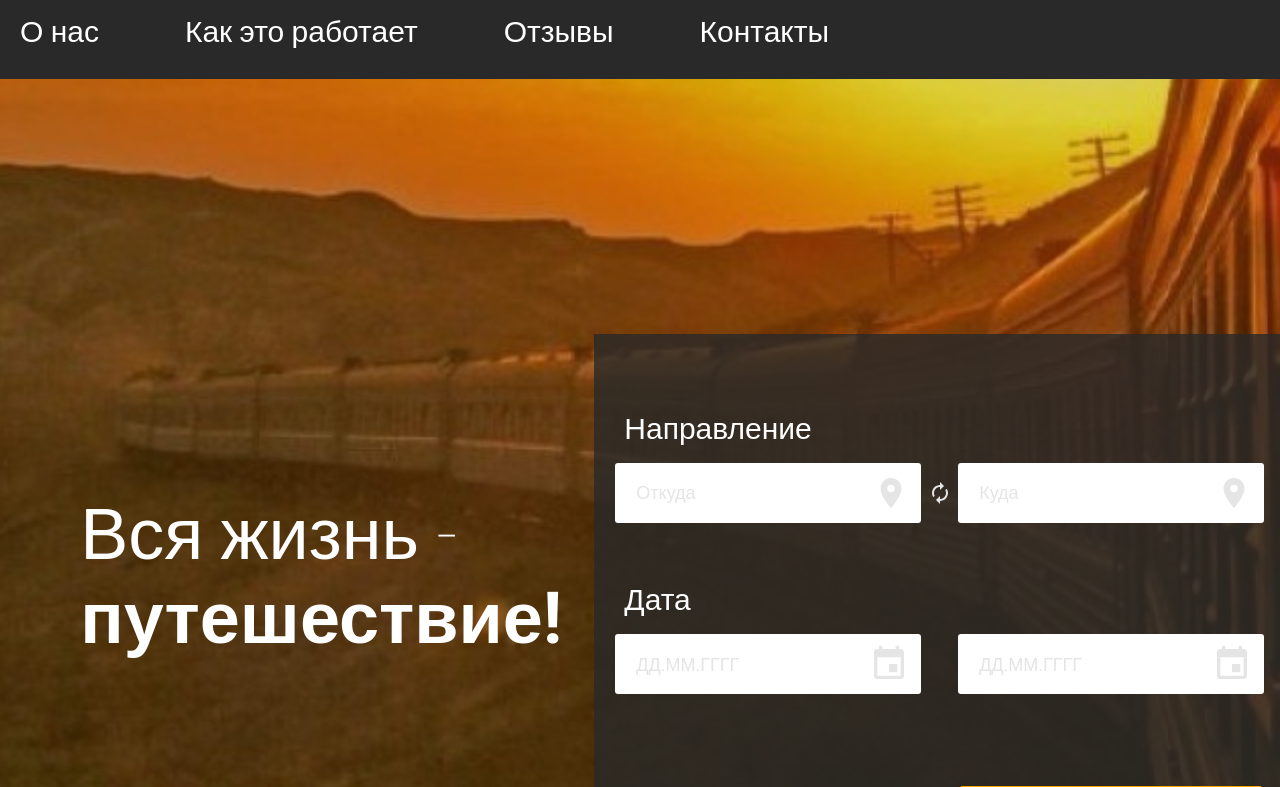
Test: поиск билетов › выбирает города из подсказок, меняет их местами и передаёт в адрес
The image size is (1280, 787).
Type "моск" into the dropdown labelled "Откуда".
click(768, 493); type("моск")  # box [615,463,921,523]
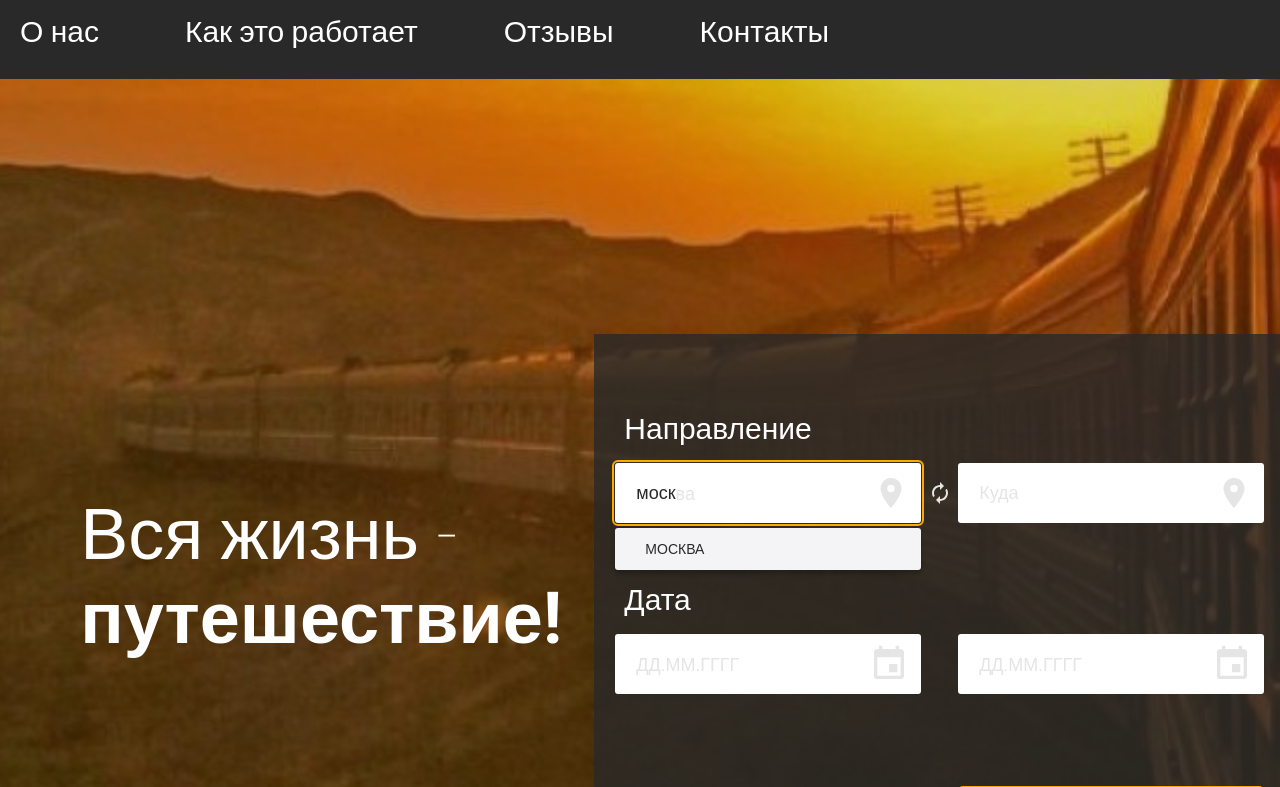
Click the option "Москва".
click(675, 549)  # box [645,541,704,557]
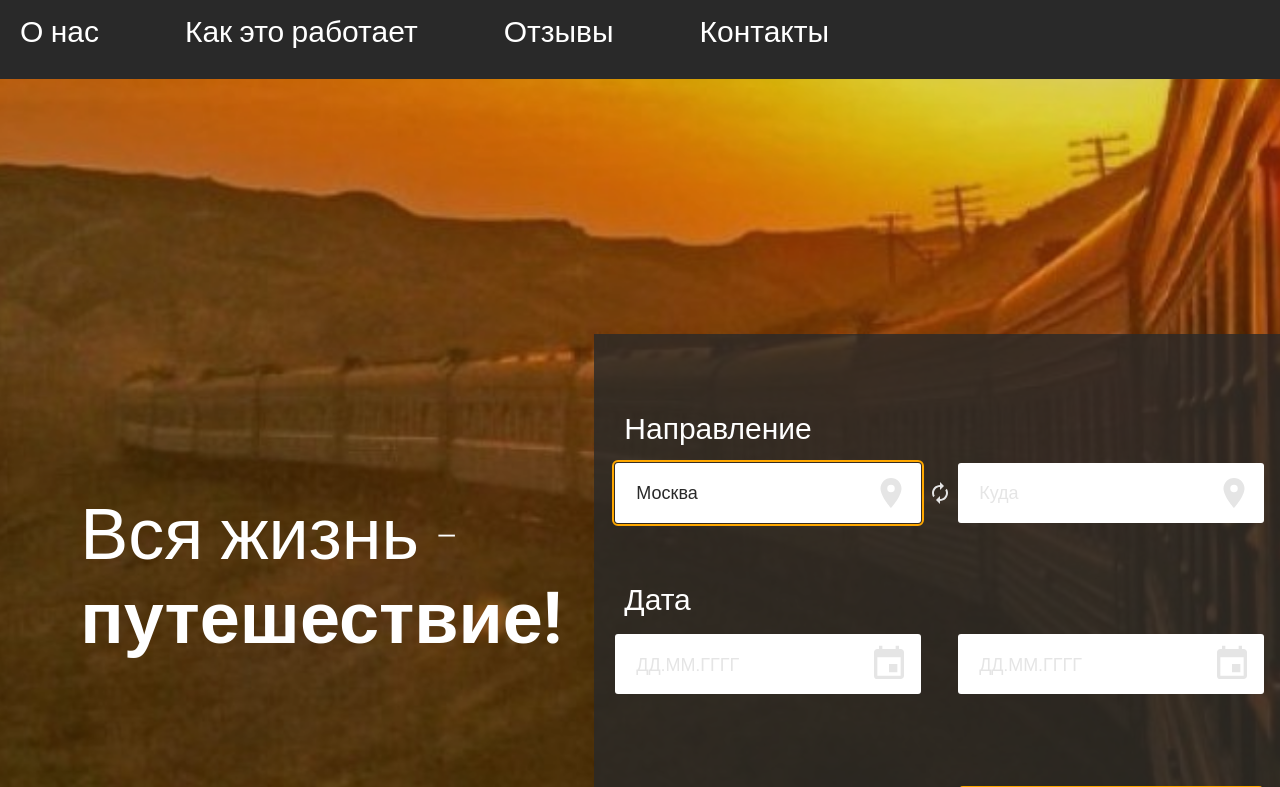
Type "санкт" into the dropdown labelled "Куда".
click(1111, 493); type("санкт")  # box [958,463,1264,523]
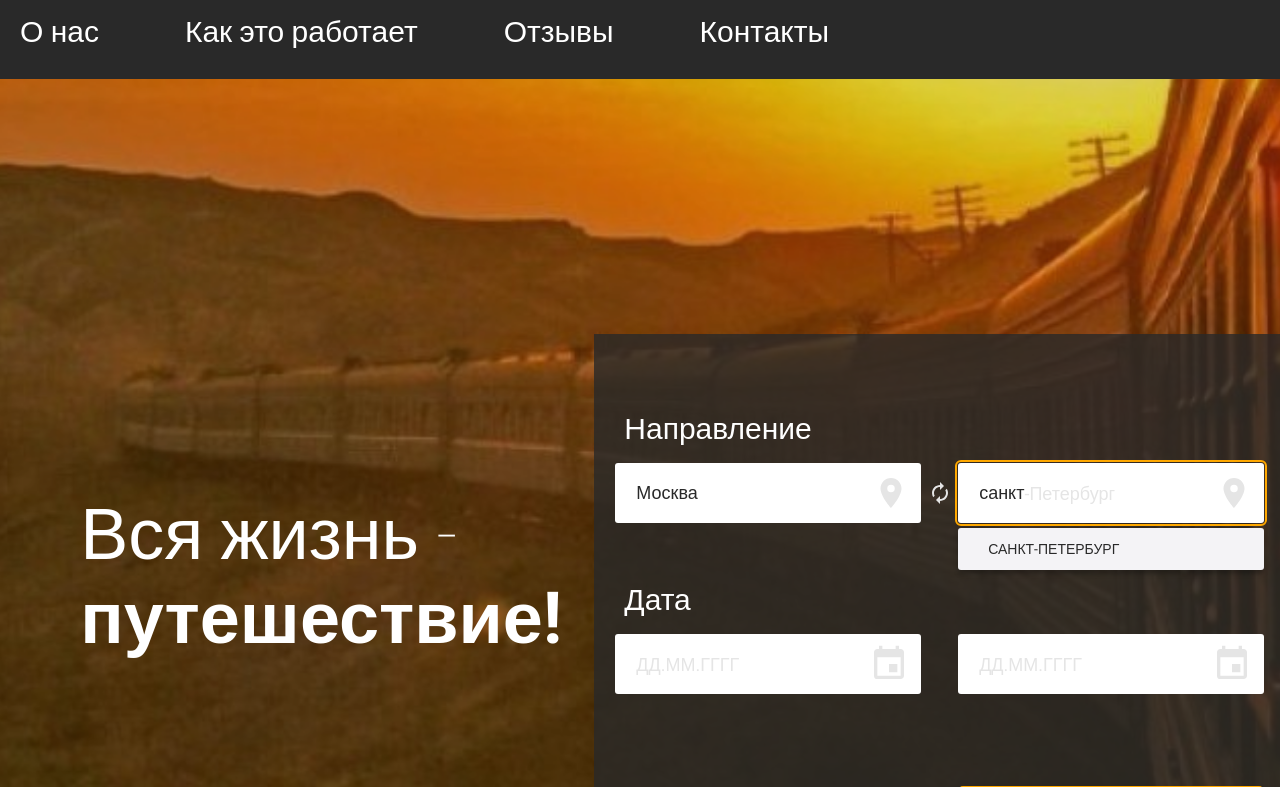
Click the option "Санкт-Петербург".
click(1054, 549)  # box [988,541,1119,557]
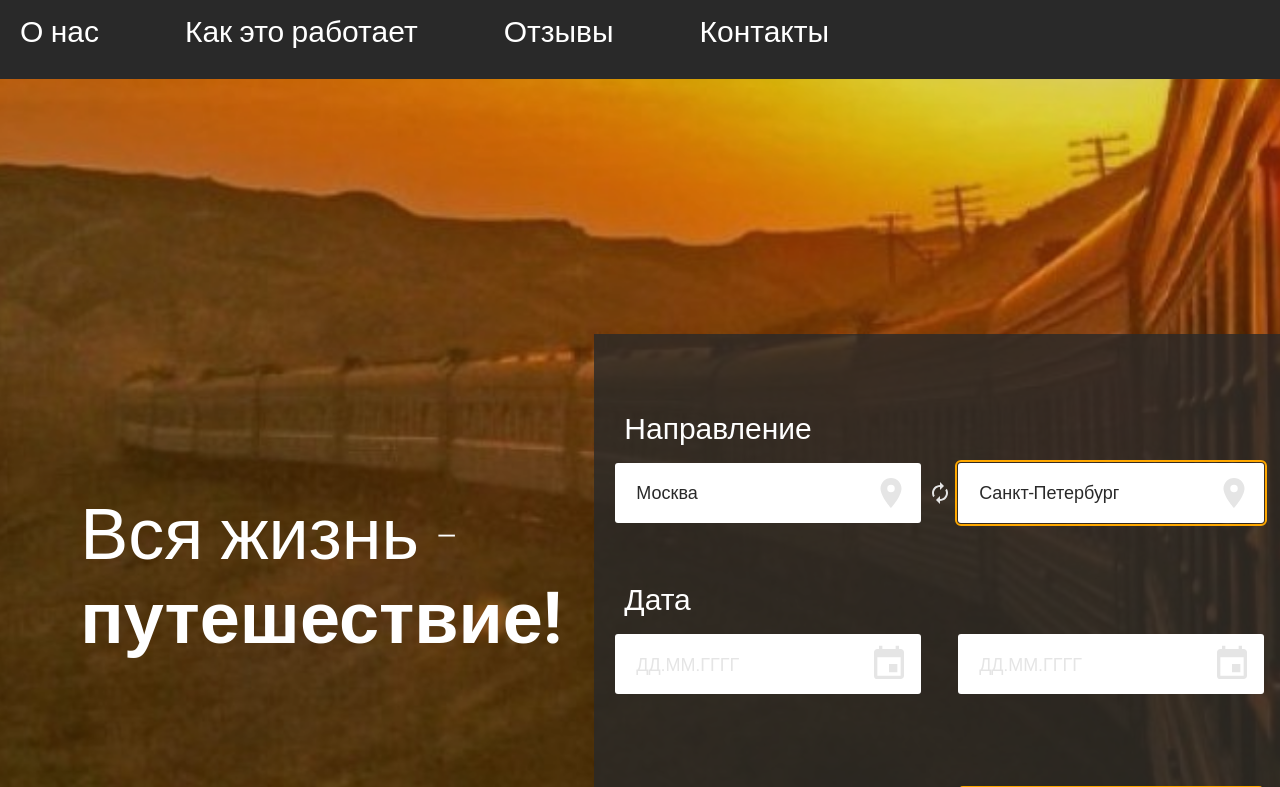
Click the button named "Поменять города местами".
click(940, 493)  # box [921,463,958,523]
(page scrolled)
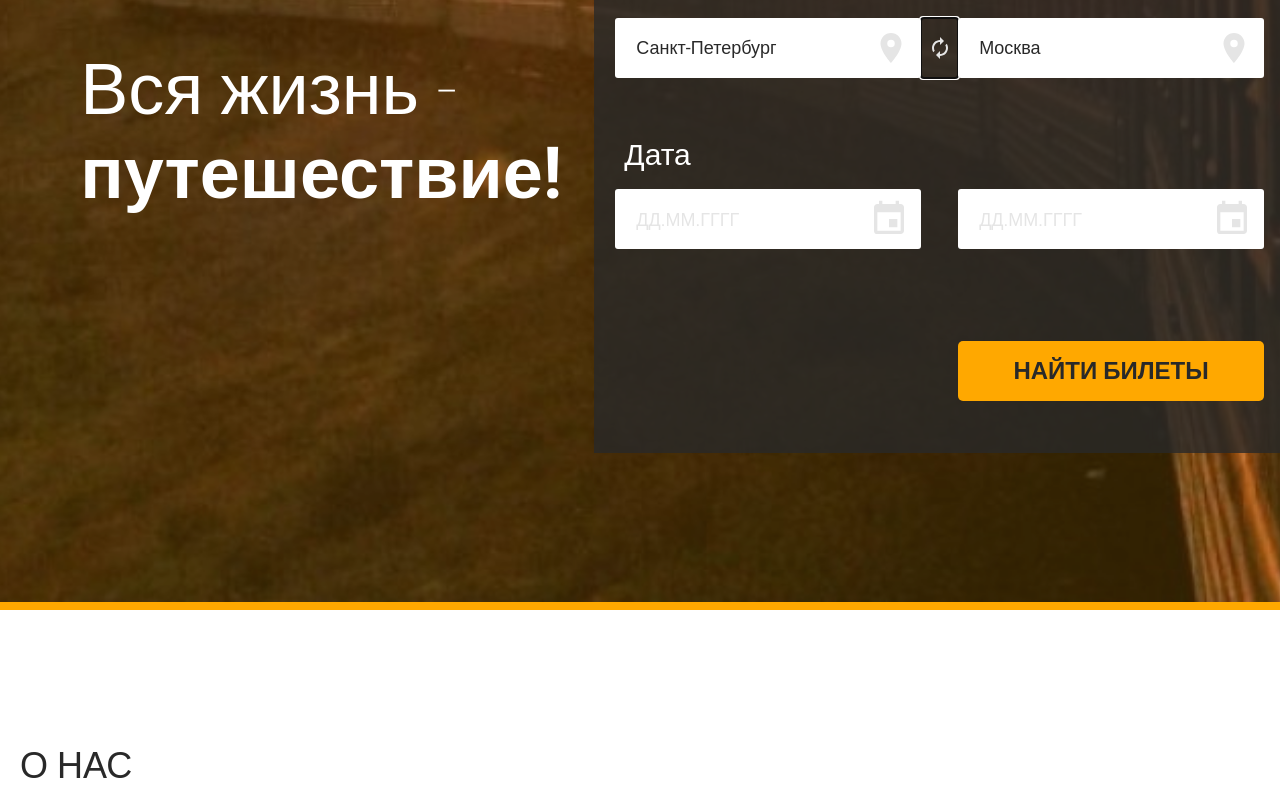
Result: the 1st dropdown named "Откуда" holds "Санкт-Петербург" at [615,18,921,78]
Result: the 2nd dropdown named "Куда" holds "Москва" at [958,18,1264,78]
Click the button "Найти билеты".
click(1111, 371)  # box [958,341,1264,401]
(page scrolled)
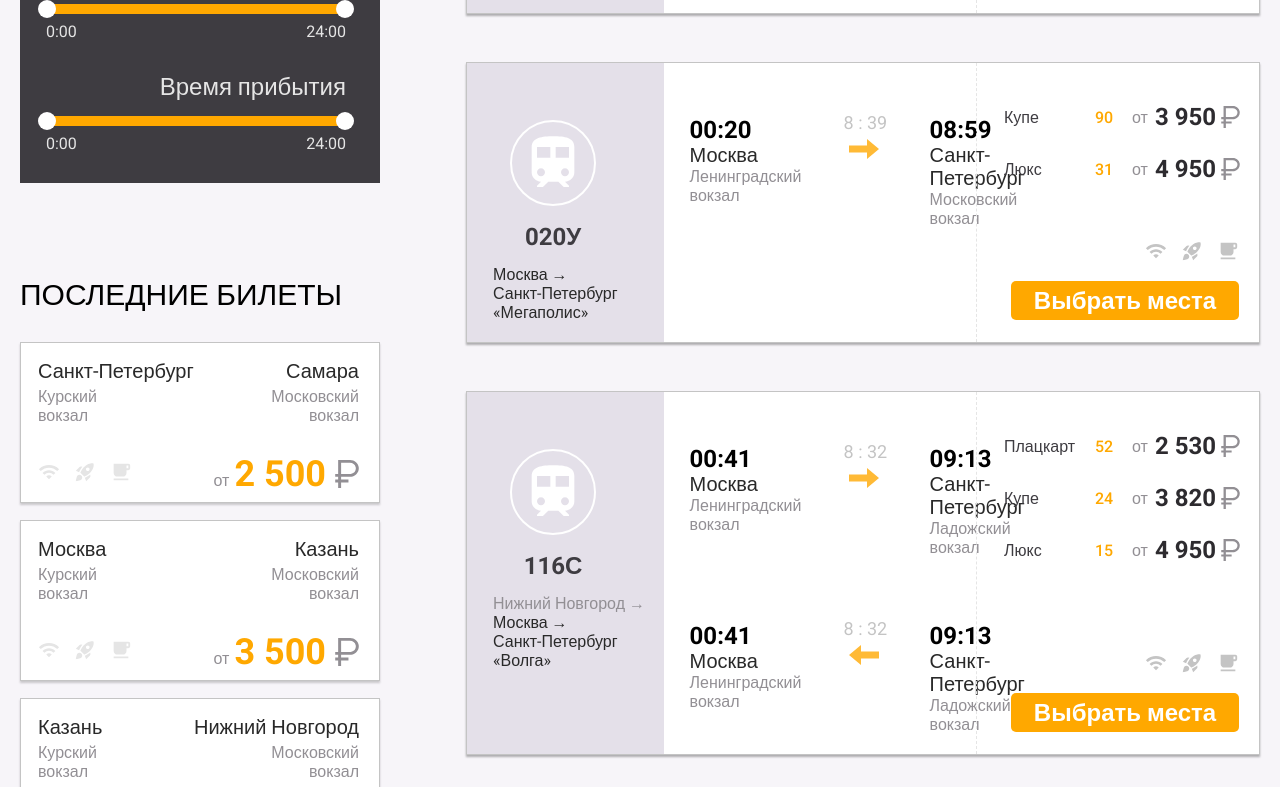
Result: the text "Санкт-Петербург" next to "Самара" is shown at [38,359,194,383]
